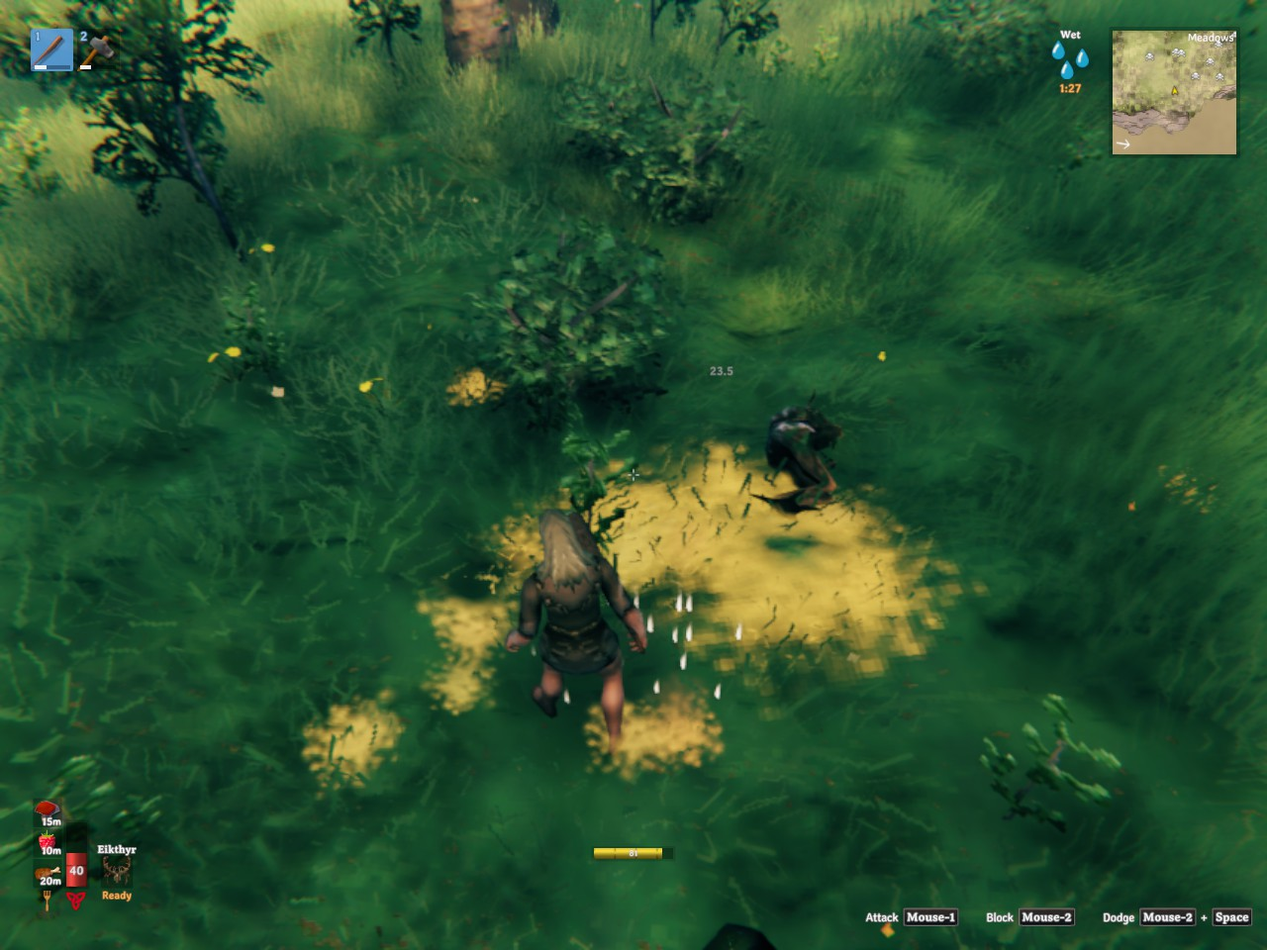Food Indicator: (36, 797, 63, 891)
Greyling: (766, 406, 841, 510)
Health Bar: (63, 820, 90, 891)
Hotbar: (25, 21, 398, 78)
Stamina Bar: (588, 844, 677, 865)
Status Indicator: (1042, 22, 1109, 101)
